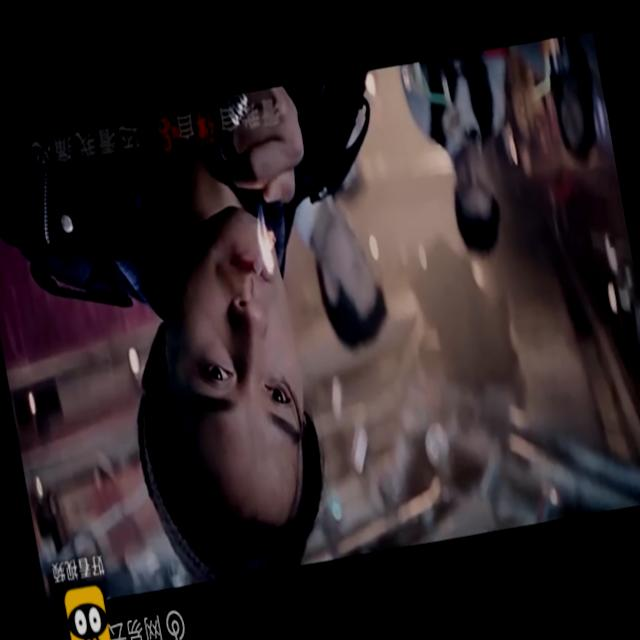cigarette: (246, 225, 280, 278)
